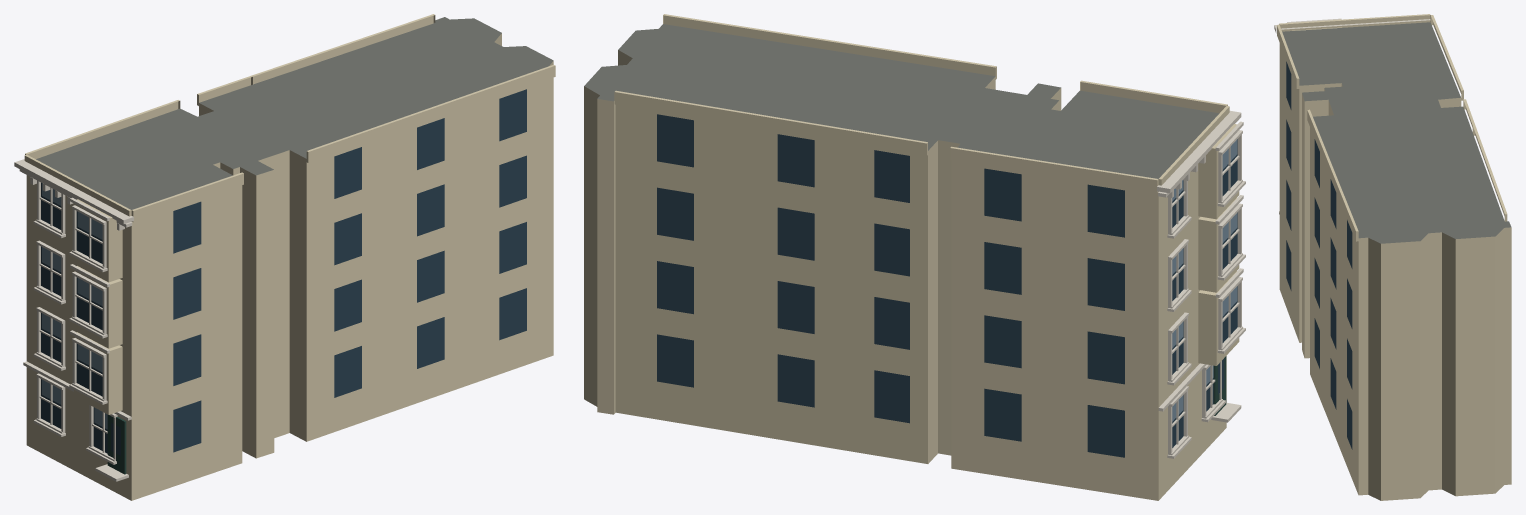
3 views of the same model, side by side, from view 1: azimuth 30°, elevation 25°; view 2: azimuth 150°, elevation 25°; view 3: azimuth 270°, elevation 25° (orthographic). The views are drawn at different scales.
Parts seen in each view (by area): view 1: Footprint 0 / surface 2, Footprint 0 / surface 1, Inset glazing, Facade bay volumes, Cornices and window frames, Sky reflection panels, Storefronts and doors; view 2: Footprint 0 / surface 2, Footprint 0 / surface 1, Inset glazing, Facade bay volumes, Cornices and window frames, Sky reflection panels; view 3: Footprint 0 / surface 2, Footprint 0 / surface 1, Inset glazing, Facade bay volumes, Cornices and window frames.
Part boxes in pixels (bbox=[...]): Footprint 0 / surface 2: bbox=[26, 22, 553, 500]; Footprint 0 / surface 1: bbox=[36, 17, 553, 209]; Inset glazing: bbox=[41, 89, 526, 455]; Facade bay volumes: bbox=[24, 14, 555, 414]; Cornices and window frames: bbox=[14, 159, 133, 481]; Sky reflection panels: bbox=[42, 183, 107, 429]; Storefronts and doors: bbox=[107, 415, 126, 474]; Footprint 0 / surface 2: bbox=[584, 50, 1226, 500]; Footprint 0 / surface 1: bbox=[584, 24, 1219, 178]; Inset glazing: bbox=[657, 114, 1237, 457]; Facade bay volumes: bbox=[614, 14, 1239, 365]; Cornices and window frames: bbox=[1157, 110, 1245, 458]; Sky reflection panels: bbox=[1172, 139, 1237, 421]; Footprint 0 / surface 2: bbox=[1279, 43, 1511, 500]; Footprint 0 / surface 1: bbox=[1282, 22, 1511, 243]; Inset glazing: bbox=[1286, 61, 1352, 449]; Facade bay volumes: bbox=[1277, 14, 1507, 241]; Cornices and window frames: bbox=[1274, 18, 1430, 214].
Size of the model in its own units: 23.84 by 12.96 by 10.54.
